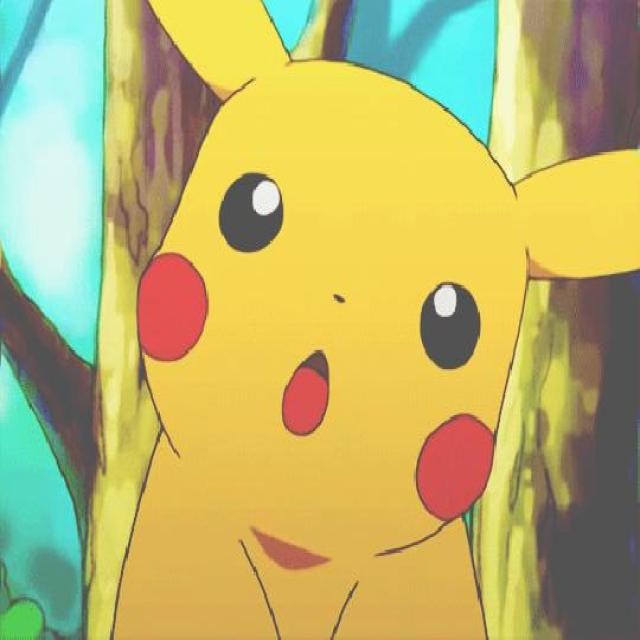pikachu: (110, 0, 640, 638)
